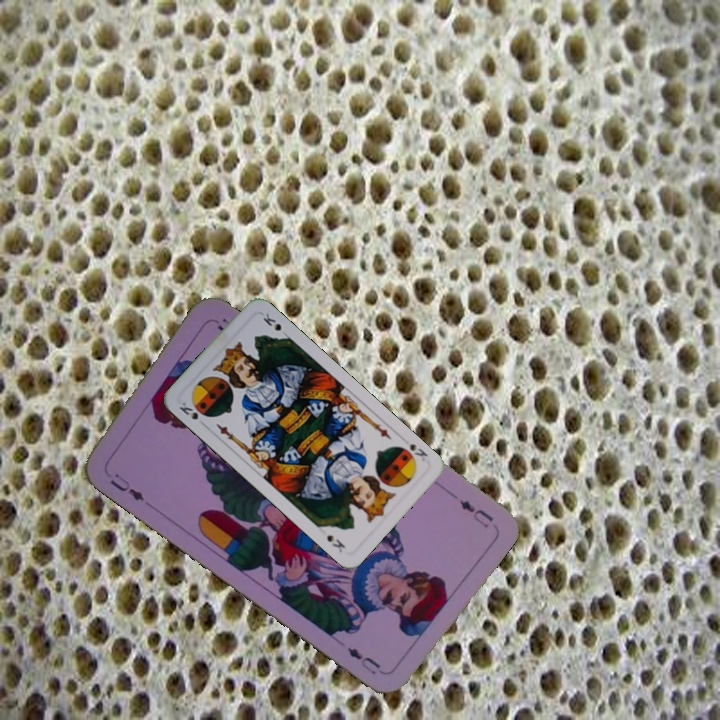EU: (455, 495, 496, 531), (106, 469, 147, 504)
SK: (175, 398, 210, 422), (406, 439, 431, 464)
